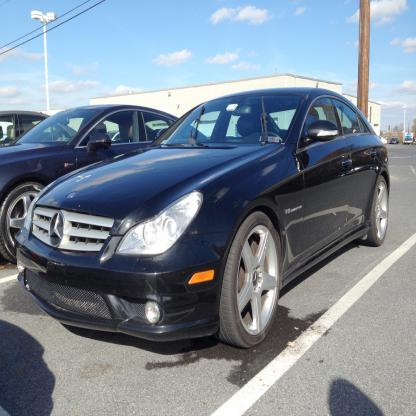Car: (16, 87, 388, 348), (0, 103, 206, 264), (0, 111, 80, 146)
